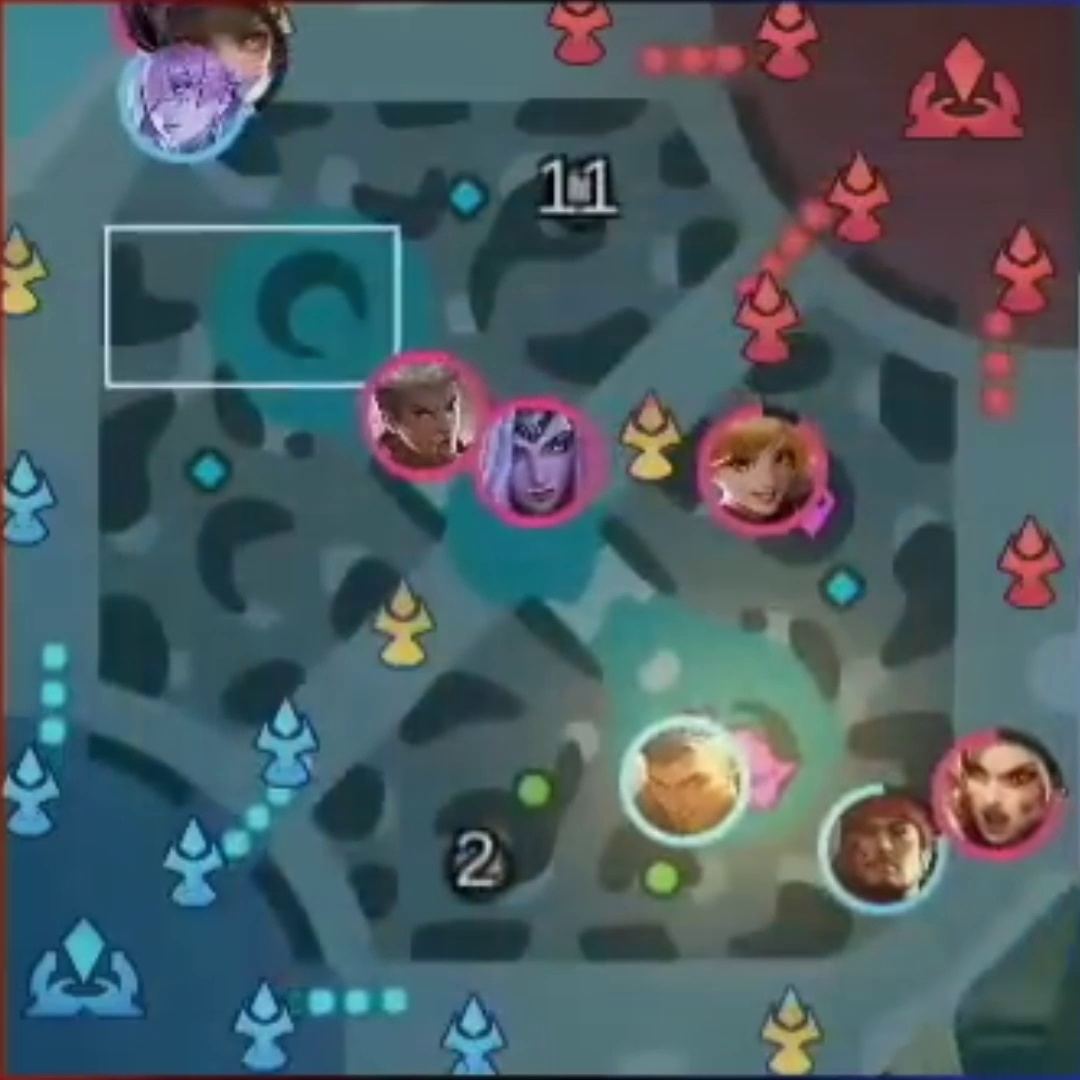Chou: (382, 367, 461, 452)
Fanny: (718, 417, 804, 518)
Fredrinn: (641, 738, 734, 834)
Lapu-Lapu: (847, 801, 925, 895)
Masha: (954, 741, 1042, 838)
Novaria: (137, 59, 223, 143)
Valentina: (497, 417, 579, 507)
Wanwan: (222, 14, 269, 96)
